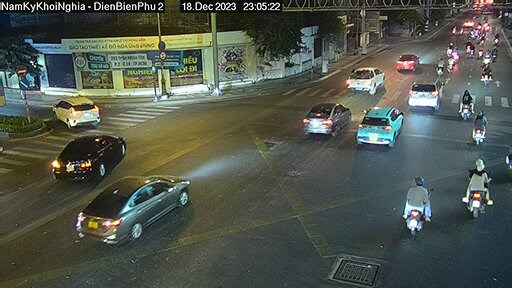car: (74, 174, 191, 241), (54, 133, 126, 179), (355, 99, 403, 148), (304, 99, 351, 136), (49, 96, 103, 128), (343, 64, 387, 96), (405, 80, 447, 109), (394, 49, 424, 76)
motorbike: (468, 159, 494, 218), (402, 177, 432, 228), (472, 112, 490, 146), (460, 90, 476, 120)
